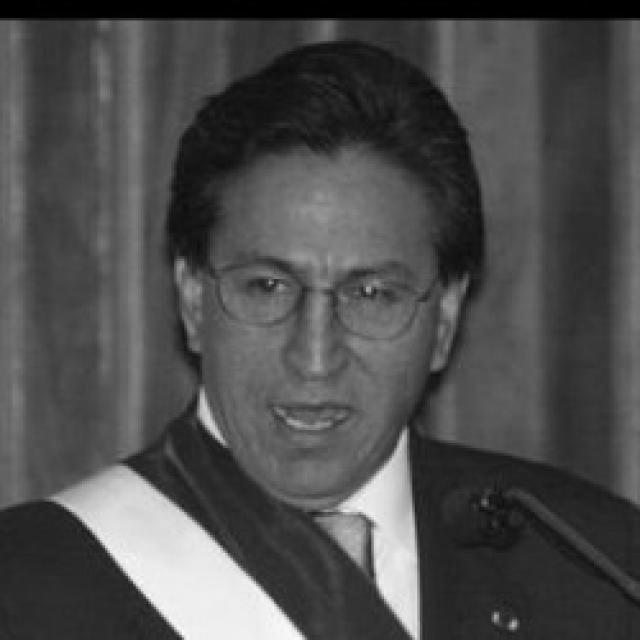real: (158, 68, 477, 490), (223, 258, 413, 323)
